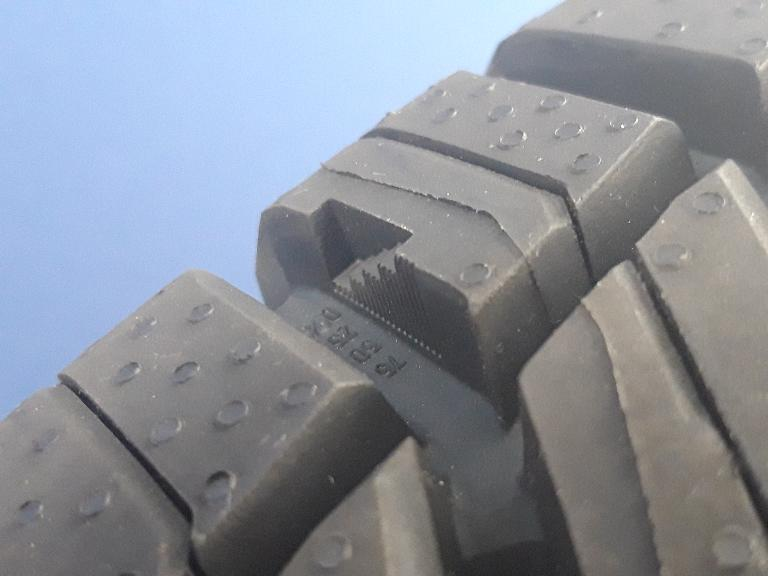temoin:100: (301, 193, 437, 356)
